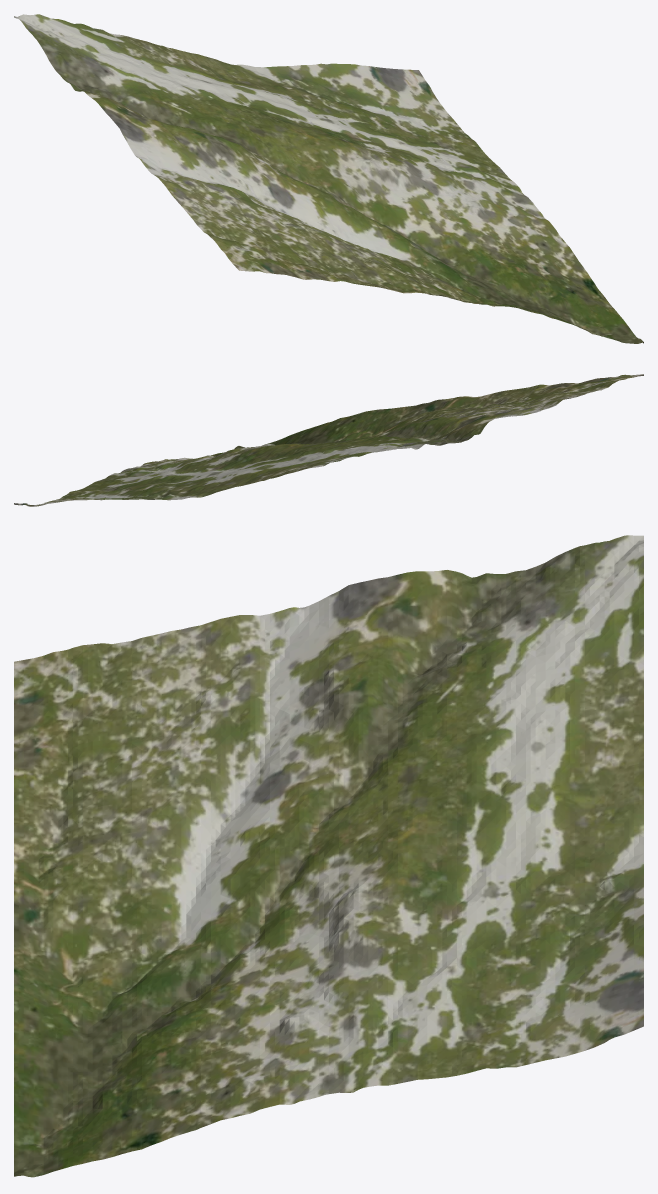
3 views of the same model, one above another, from view 1: azimuth 30°, elevation 25°; view 2: azimuth 150°, elevation 25°; view 3: azimuth 270°, elevation 25° (orthographic). The views are drawn at different scales.
Bounding box in the file's own units: 250 × 155 × 241.
1 material, 1 textured.
